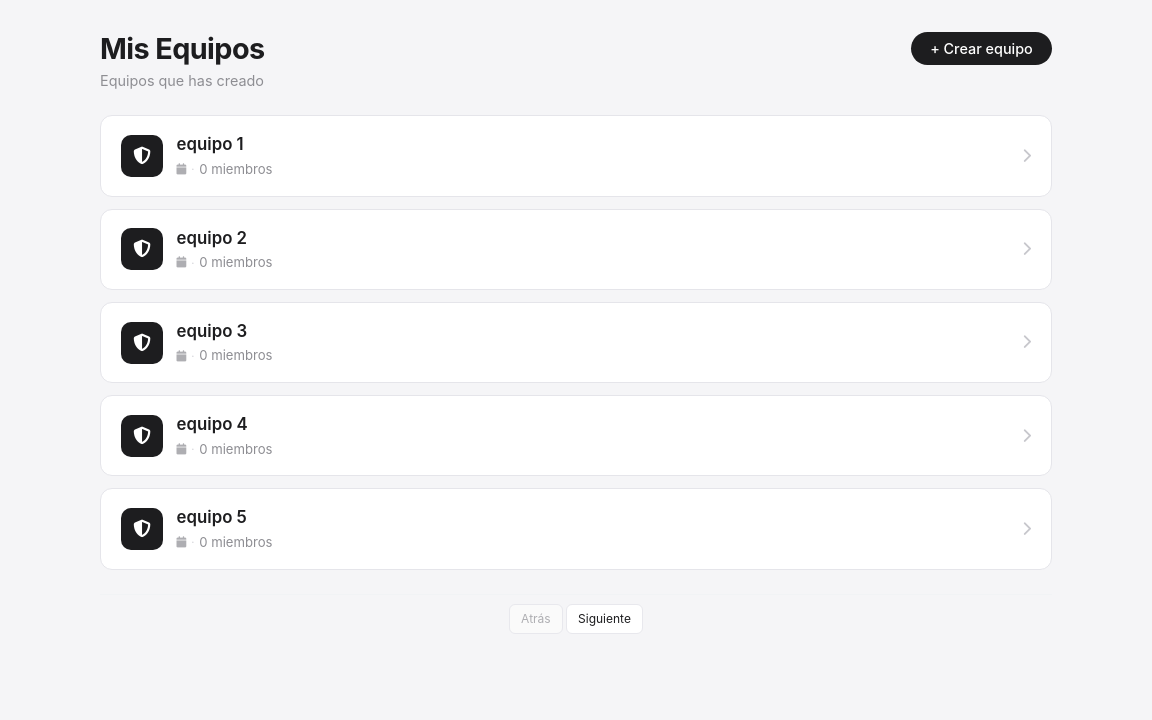
it: MyTeams › pagina los equipos de 5 en 5 y permite navegar entre paginas
Check: the text "equipo 1" is shown, box [177,134,244,154]
Check: the text "equipo 5" is shown, box [177,507,247,527]
# Navegar a la segunda página
Click the text "Siguiente". click: click(604, 619)
box: [578,611,631,626]
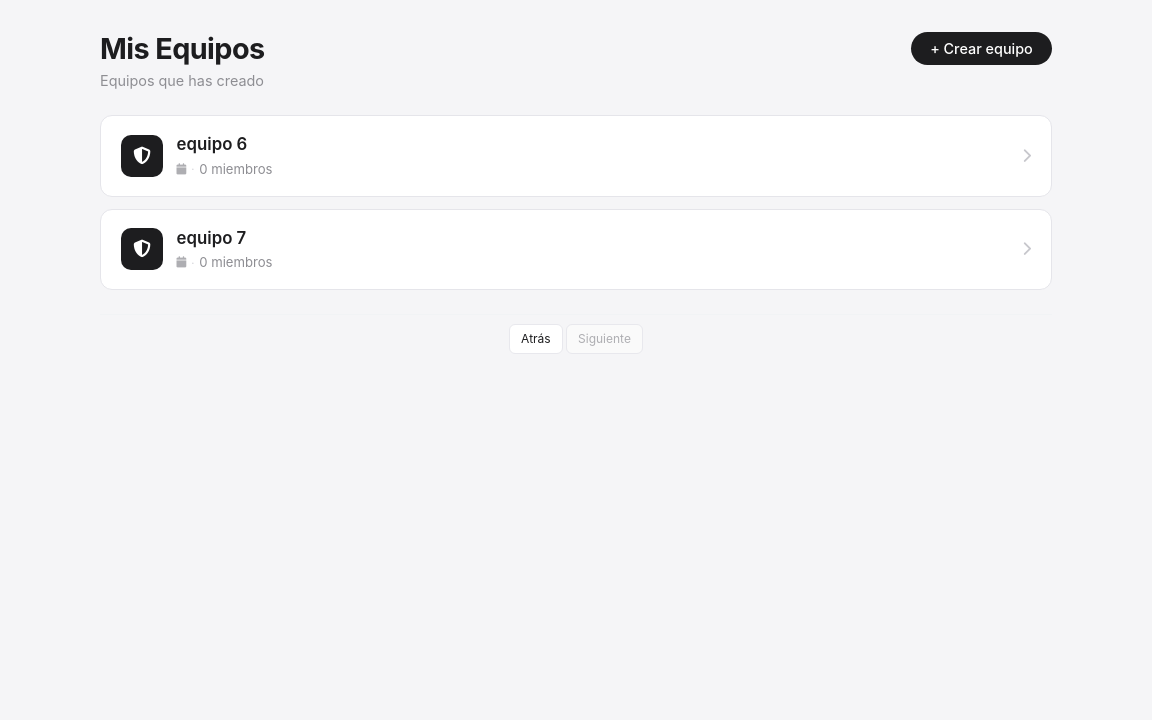
Check: the link "equipo 1" is gone
Check: the text "equipo 6" is shown, box [177,134,247,154]
Check: the text "equipo 7" is shown, box [177,228,246,248]
# Volver a la primera página
Click the text "Atrás". click: click(536, 339)
box: [521,331,551,346]
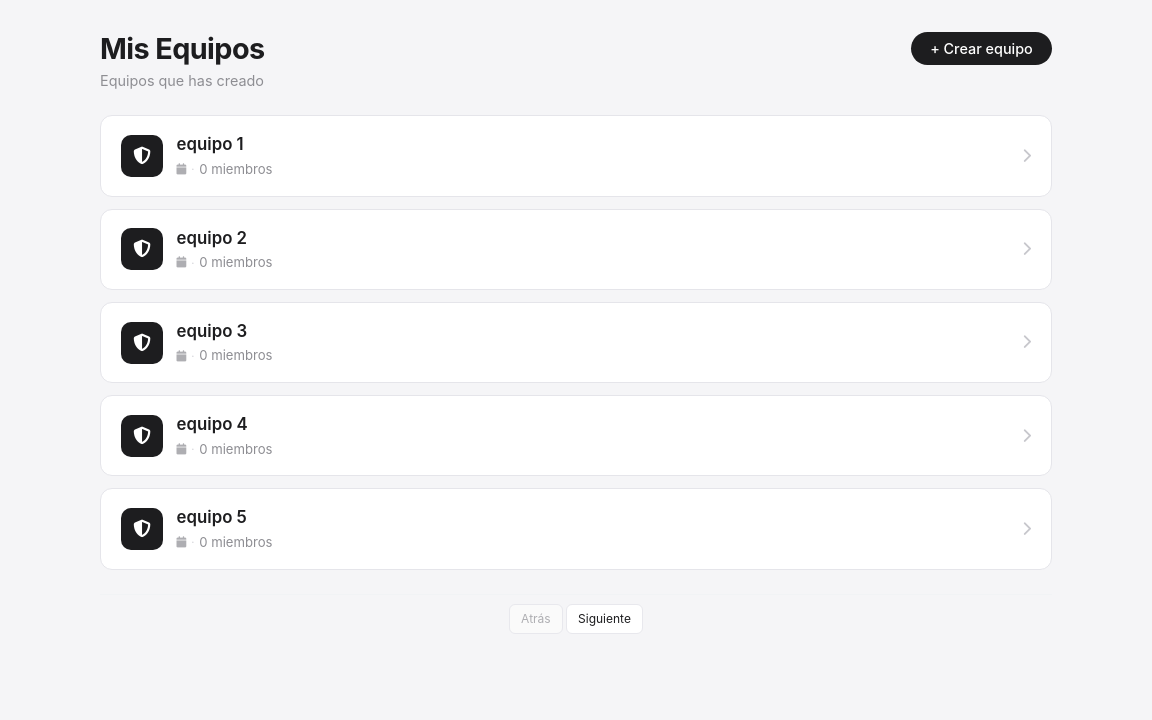
Check: the text "equipo 1" is shown, box [177,134,244,154]
Check: the link "equipo 6" is gone
